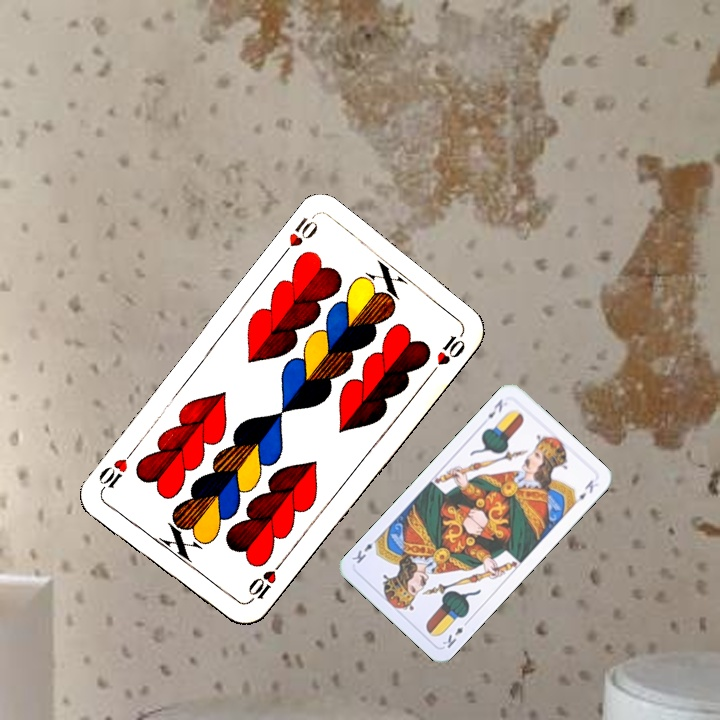EK: (438, 616, 472, 651), (484, 395, 505, 421)
H10: (275, 212, 321, 262), (242, 557, 286, 607)
